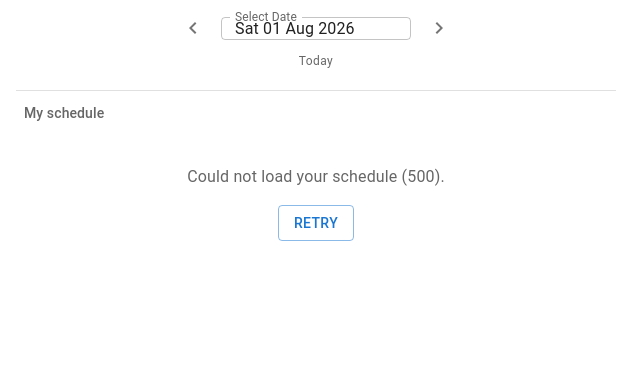
Test case: offers a retry when the fetch fails outright
Expected: the text "Could not load your schedule (500)." is shown, top-left (187, 167), bottom-right (445, 186)
Click the button "Retry" at (316,223), box top-left (278, 205), bottom-right (354, 242)
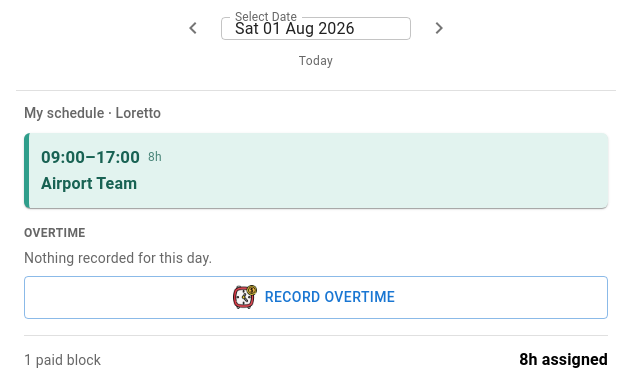
Now the text "Airport Team" is shown, box top-left (41, 174), bottom-right (137, 193)
